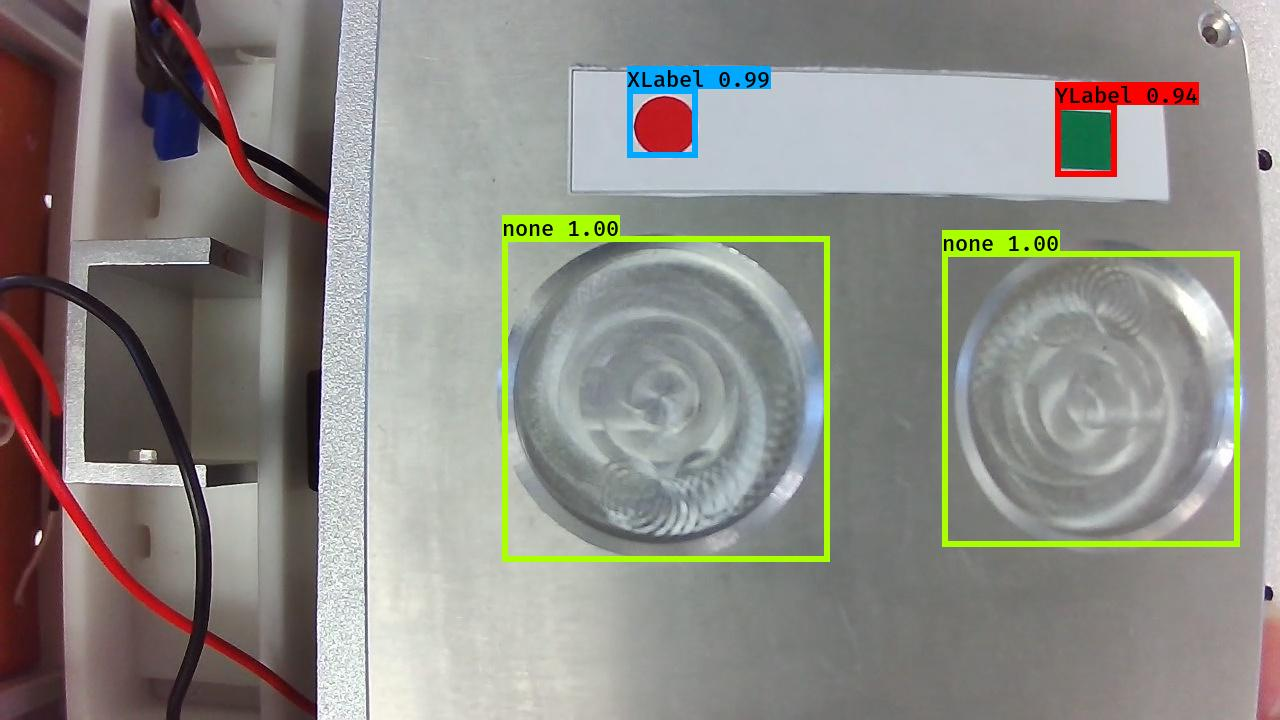XLabel: (632, 93, 698, 159)
YLabel: (1053, 106, 1117, 174)
none: (493, 231, 826, 563), (950, 235, 1246, 557)
